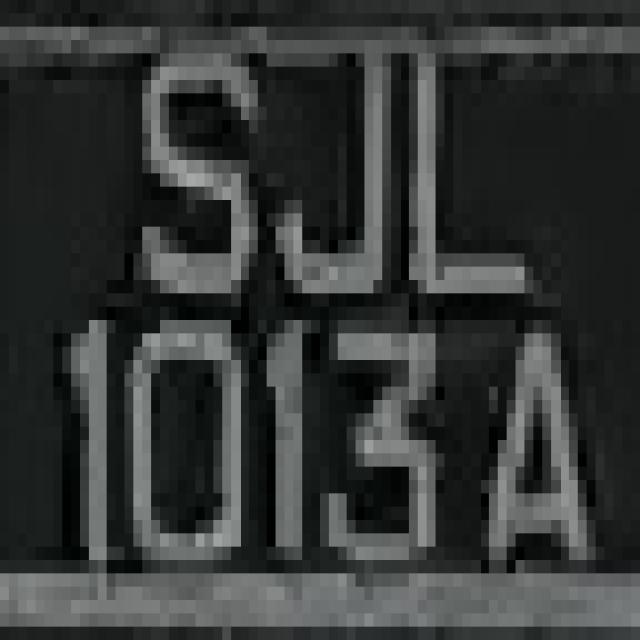0: (124, 280, 249, 560)
1: (249, 280, 320, 587), (62, 267, 124, 600)
3: (320, 267, 453, 600)
A: (462, 266, 604, 626)
J: (258, 0, 409, 320)
L: (391, 27, 542, 293)
S: (116, 13, 266, 360)
